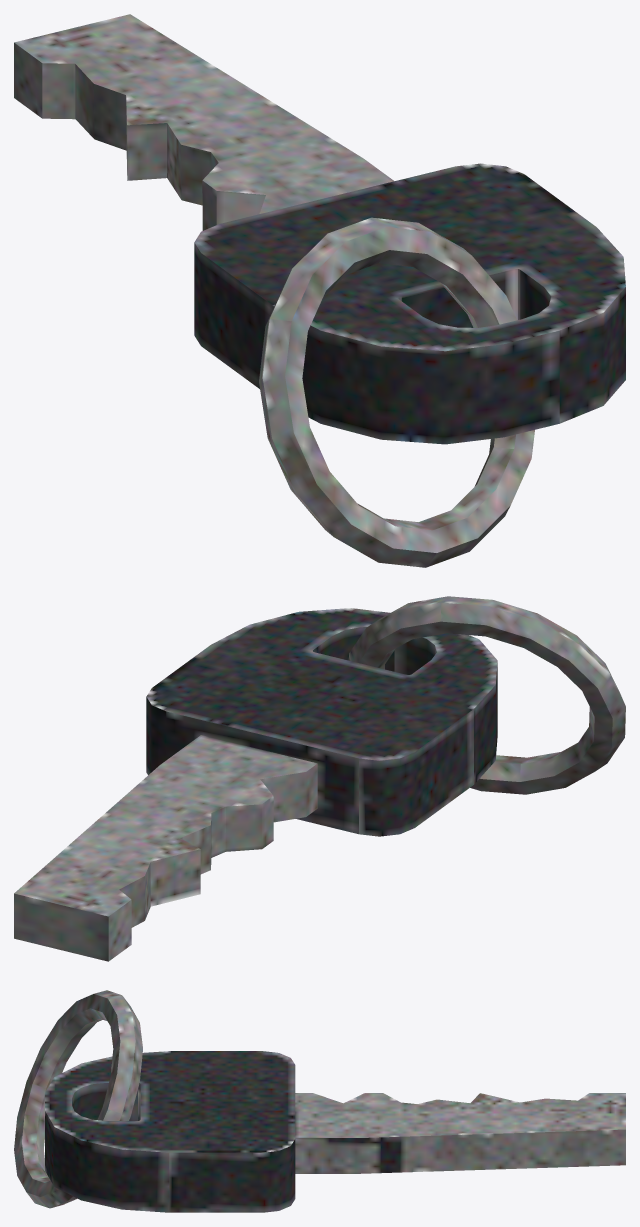
File: key.fbx
3 views of the same model, one above another, from view 1: azimuth 30°, elevation 25°; view 2: azimuth 150°, elevation 25°; view 3: azimuth 270°, elevation 25° (orthographic). The views are drawn at different scales.
Visible parts, largest first — view 1: Cube.016; view 2: Cube.016; view 3: Cube.016.
Boxes of the visible parts, x1,y1,x2,y2 form: Cube.016: (14, 14, 625, 567); Cube.016: (14, 596, 625, 961); Cube.016: (14, 990, 625, 1212).
Bounding box in the file's own units: 32.81 × 21.54 × 64.66.
1 material, 1 textured.
